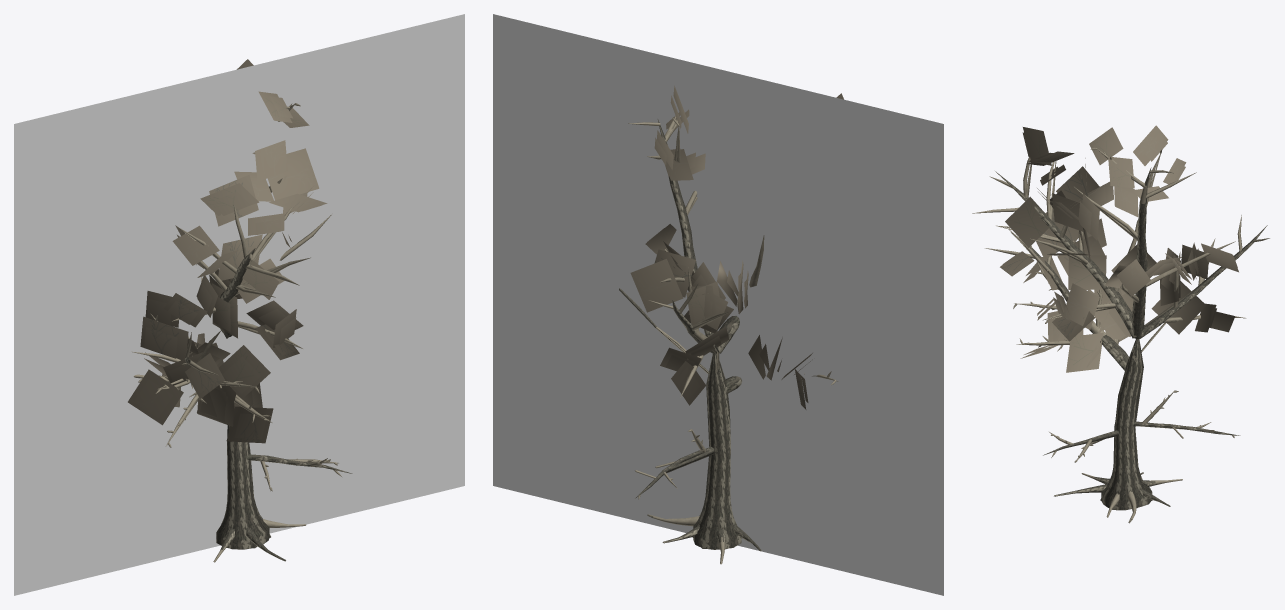
The model's file is mort_adulte_d.fbx.
3 renders of one model, left to right at view 1: azimuth 30°, elevation 25°; view 2: azimuth 150°, elevation 25°; view 3: azimuth 270°, elevation 25°, orthographic. The views are drawn at different scales.
Parts seen in each view (by area): view 1: mort_adulte_d_LOD3, mort_adulte_d_LOD1, mort_adulte_d_LOD2; view 2: mort_adulte_d_LOD3, mort_adulte_d_LOD1, mort_adulte_d_LOD2; view 3: mort_adulte_d_LOD2, mort_adulte_d_LOD1.
Boxes of the visible parts, x1=… form: mort_adulte_d_LOD3: x1=14, y1=14, x2=464, y2=595; mort_adulte_d_LOD1: x1=132, y1=96, x2=352, y2=562; mort_adulte_d_LOD2: x1=128, y1=59, x2=347, y2=562; mort_adulte_d_LOD3: x1=493, y1=14, x2=943, y2=595; mort_adulte_d_LOD1: x1=619, y1=95, x2=838, y2=564; mort_adulte_d_LOD2: x1=619, y1=85, x2=843, y2=563; mort_adulte_d_LOD2: x1=974, y1=125, x2=1266, y2=522; mort_adulte_d_LOD1: x1=972, y1=132, x2=1269, y2=522.
Size of what is drawn, in the model's own units: 15.94 by 15.94 by 10.87.
